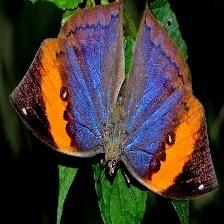butterfly: (9, 0, 219, 201)
